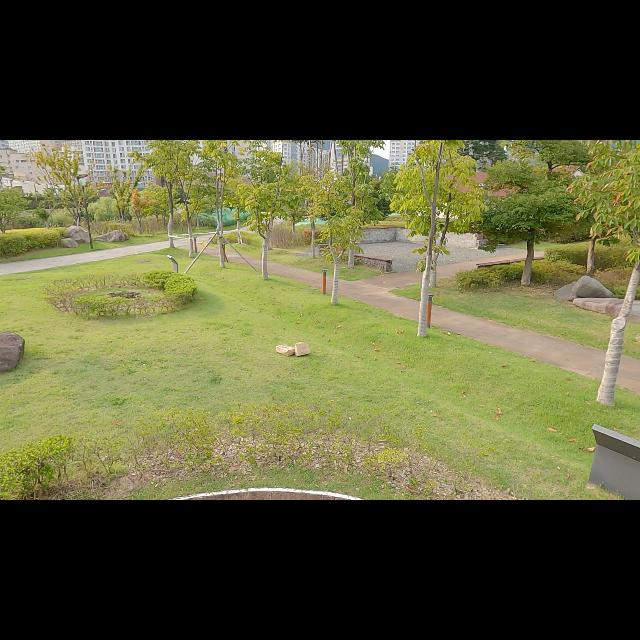trash: (274, 340, 294, 358), (292, 340, 312, 358)
